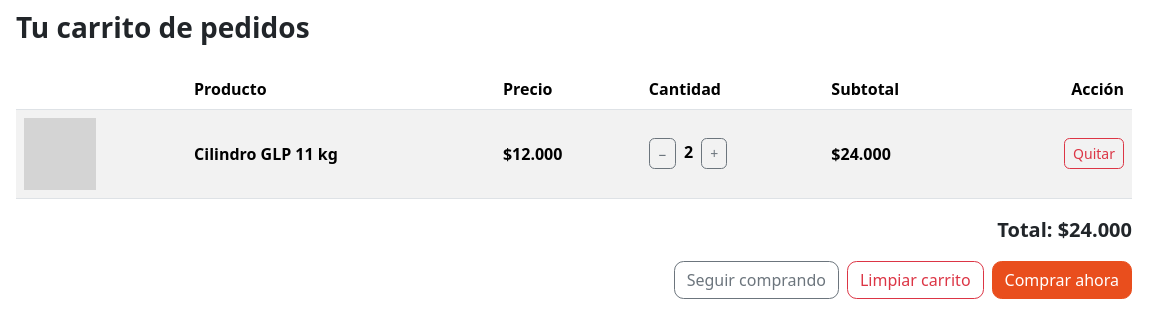
Test: <Carrito /> › aumenta la cantidad con el botón más
This screenshot has width=1149, height=316.
Step 1. Click the button named "más" → (714, 154), box [701,138,727,169]
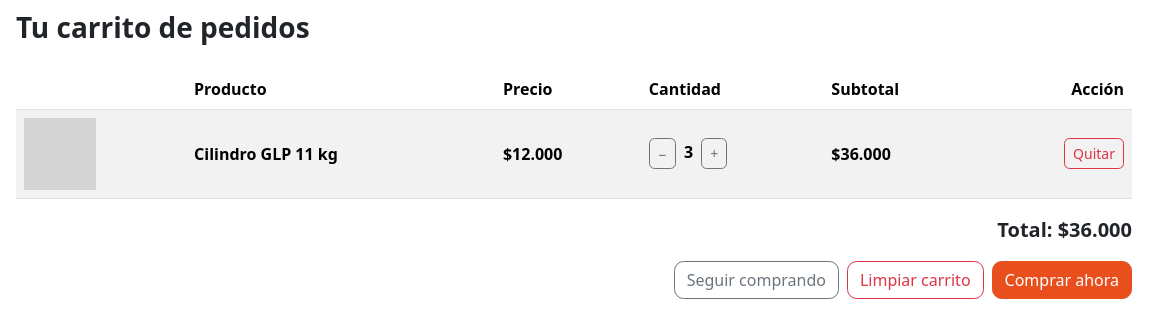
Now the text "3" is shown, box [684,141,693,163]
